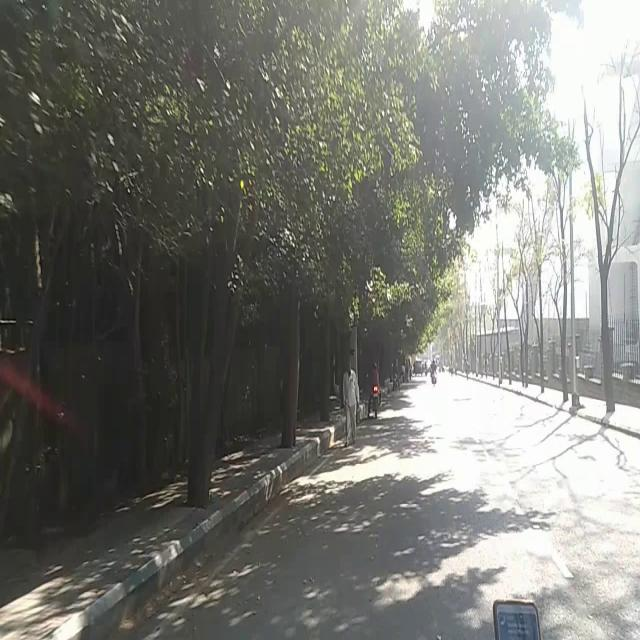person: (336, 351, 363, 454)
road: (287, 395, 640, 640), (146, 504, 286, 640)
sidewalk: (0, 542, 146, 632), (133, 492, 216, 554), (211, 454, 288, 504), (282, 420, 334, 463)
